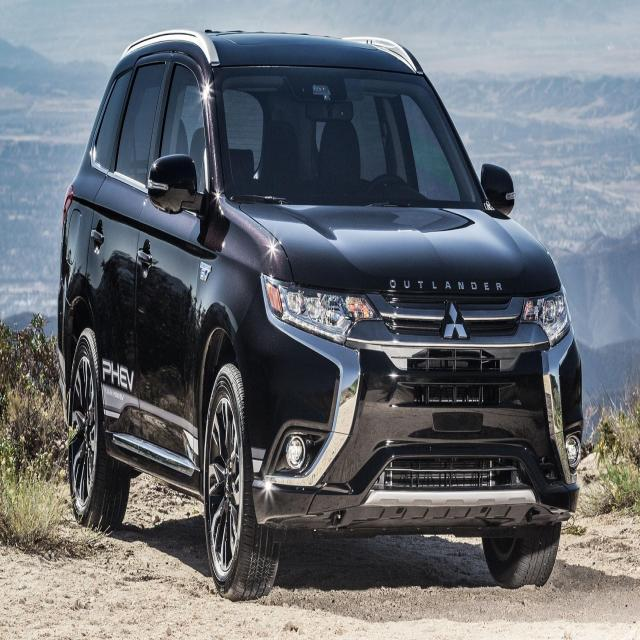light_vehicle: (56, 30, 584, 600)
